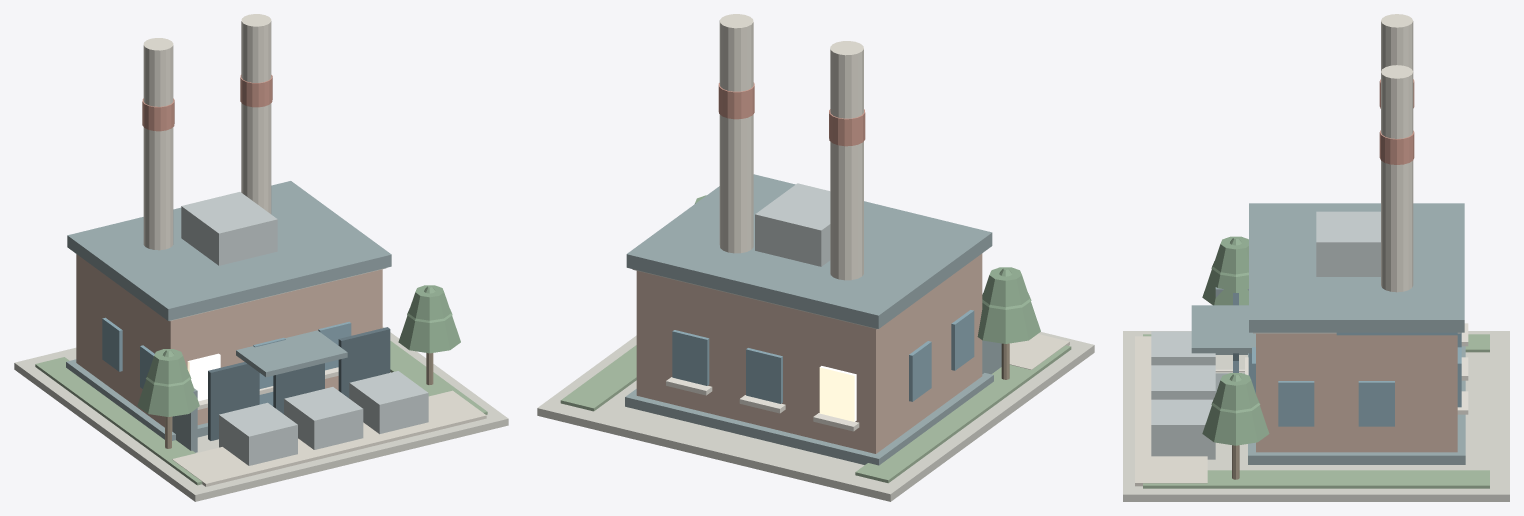
The model's file is remaster_industry_mine_1.glb.
The picture shows the model from 3 angles, left to right: view 1: azimuth 30°, elevation 25°; view 2: azimuth 150°, elevation 25°; view 3: azimuth 270°, elevation 25°; orthographic projection. The views are drawn at different scales.
Parts seen in each view (by area): view 1: remaster_industry_mine_1 roof, remaster_industry_mine_1 brick, remaster_industry_mine_1 cream, remaster_industry_mine_1 metal, remaster_industry_mine_1 stone, remaster_industry_mine_1 dark, remaster_industry_mine_1 leaf, remaster_industry_mine_1 green, remaster_industry_mine_1 glass, remaster_industry_mine_1 red, remaster_industry_mine_1 warm; view 2: remaster_industry_mine_1 brick, remaster_industry_mine_1 roof, remaster_industry_mine_1 cream, remaster_industry_mine_1 stone, remaster_industry_mine_1 green, remaster_industry_mine_1 glass, remaster_industry_mine_1 metal, remaster_industry_mine_1 leaf, remaster_industry_mine_1 red, remaster_industry_mine_1 warm, remaster_industry_mine_1 white; view 3: remaster_industry_mine_1 roof, remaster_industry_mine_1 brick, remaster_industry_mine_1 stone, remaster_industry_mine_1 cream, remaster_industry_mine_1 metal, remaster_industry_mine_1 green, remaster_industry_mine_1 leaf, remaster_industry_mine_1 glass, remaster_industry_mine_1 red, remaster_industry_mine_1 white.
Part boxes in pixels (x1=…): remaster_industry_mine_1 roof: x1=66, y1=181, x2=391, y2=452; remaster_industry_mine_1 brick: x1=76, y1=254, x2=382, y2=431; remaster_industry_mine_1 cream: x1=143, y1=14, x2=486, y2=486; remaster_industry_mine_1 metal: x1=181, y1=192, x2=428, y2=465; remaster_industry_mine_1 stone: x1=14, y1=268, x2=508, y2=501; remaster_industry_mine_1 dark: x1=208, y1=327, x2=390, y2=440; remaster_industry_mine_1 leaf: x1=137, y1=285, x2=460, y2=416; remaster_industry_mine_1 green: x1=35, y1=341, x2=487, y2=485; remaster_industry_mine_1 glass: x1=102, y1=317, x2=351, y2=406; remaster_industry_mine_1 red: x1=142, y1=75, x2=272, y2=131; remaster_industry_mine_1 warm: x1=187, y1=353, x2=220, y2=401; remaster_industry_mine_1 brick: x1=636, y1=253, x2=982, y2=453; remaster_industry_mine_1 roof: x1=625, y1=174, x2=1001, y2=465; remaster_industry_mine_1 cream: x1=719, y1=14, x2=1069, y2=369; remaster_industry_mine_1 stone: x1=537, y1=269, x2=1094, y2=501; remaster_industry_mine_1 green: x1=560, y1=345, x2=1071, y2=483; remaster_industry_mine_1 glass: x1=672, y1=310, x2=974, y2=403; remaster_industry_mine_1 metal: x1=755, y1=183, x2=830, y2=266; remaster_industry_mine_1 leaf: x1=695, y1=195, x2=1040, y2=343; remaster_industry_mine_1 red: x1=718, y1=82, x2=865, y2=146; remaster_industry_mine_1 warm: x1=819, y1=366, x2=856, y2=421; remaster_industry_mine_1 white: x1=666, y1=377, x2=859, y2=431; remaster_industry_mine_1 roof: x1=1191, y1=203, x2=1465, y2=464; remaster_industry_mine_1 brick: x1=1256, y1=333, x2=1457, y2=452; remaster_industry_mine_1 stone: x1=1123, y1=331, x2=1509, y2=501; remaster_industry_mine_1 cream: x1=1135, y1=14, x2=1413, y2=486; remaster_industry_mine_1 metal: x1=1151, y1=211, x2=1380, y2=459; remaster_industry_mine_1 green: x1=1143, y1=334, x2=1489, y2=488; remaster_industry_mine_1 leaf: x1=1202, y1=236, x2=1269, y2=445; remaster_industry_mine_1 glass: x1=1248, y1=332, x2=1461, y2=426; remaster_industry_mine_1 red: x1=1379, y1=79, x2=1414, y2=164; remaster_industry_mine_1 white: x1=1215, y1=323, x2=1468, y2=414.
Size of the model in its own units: 9.64 by 10 by 9.6.
